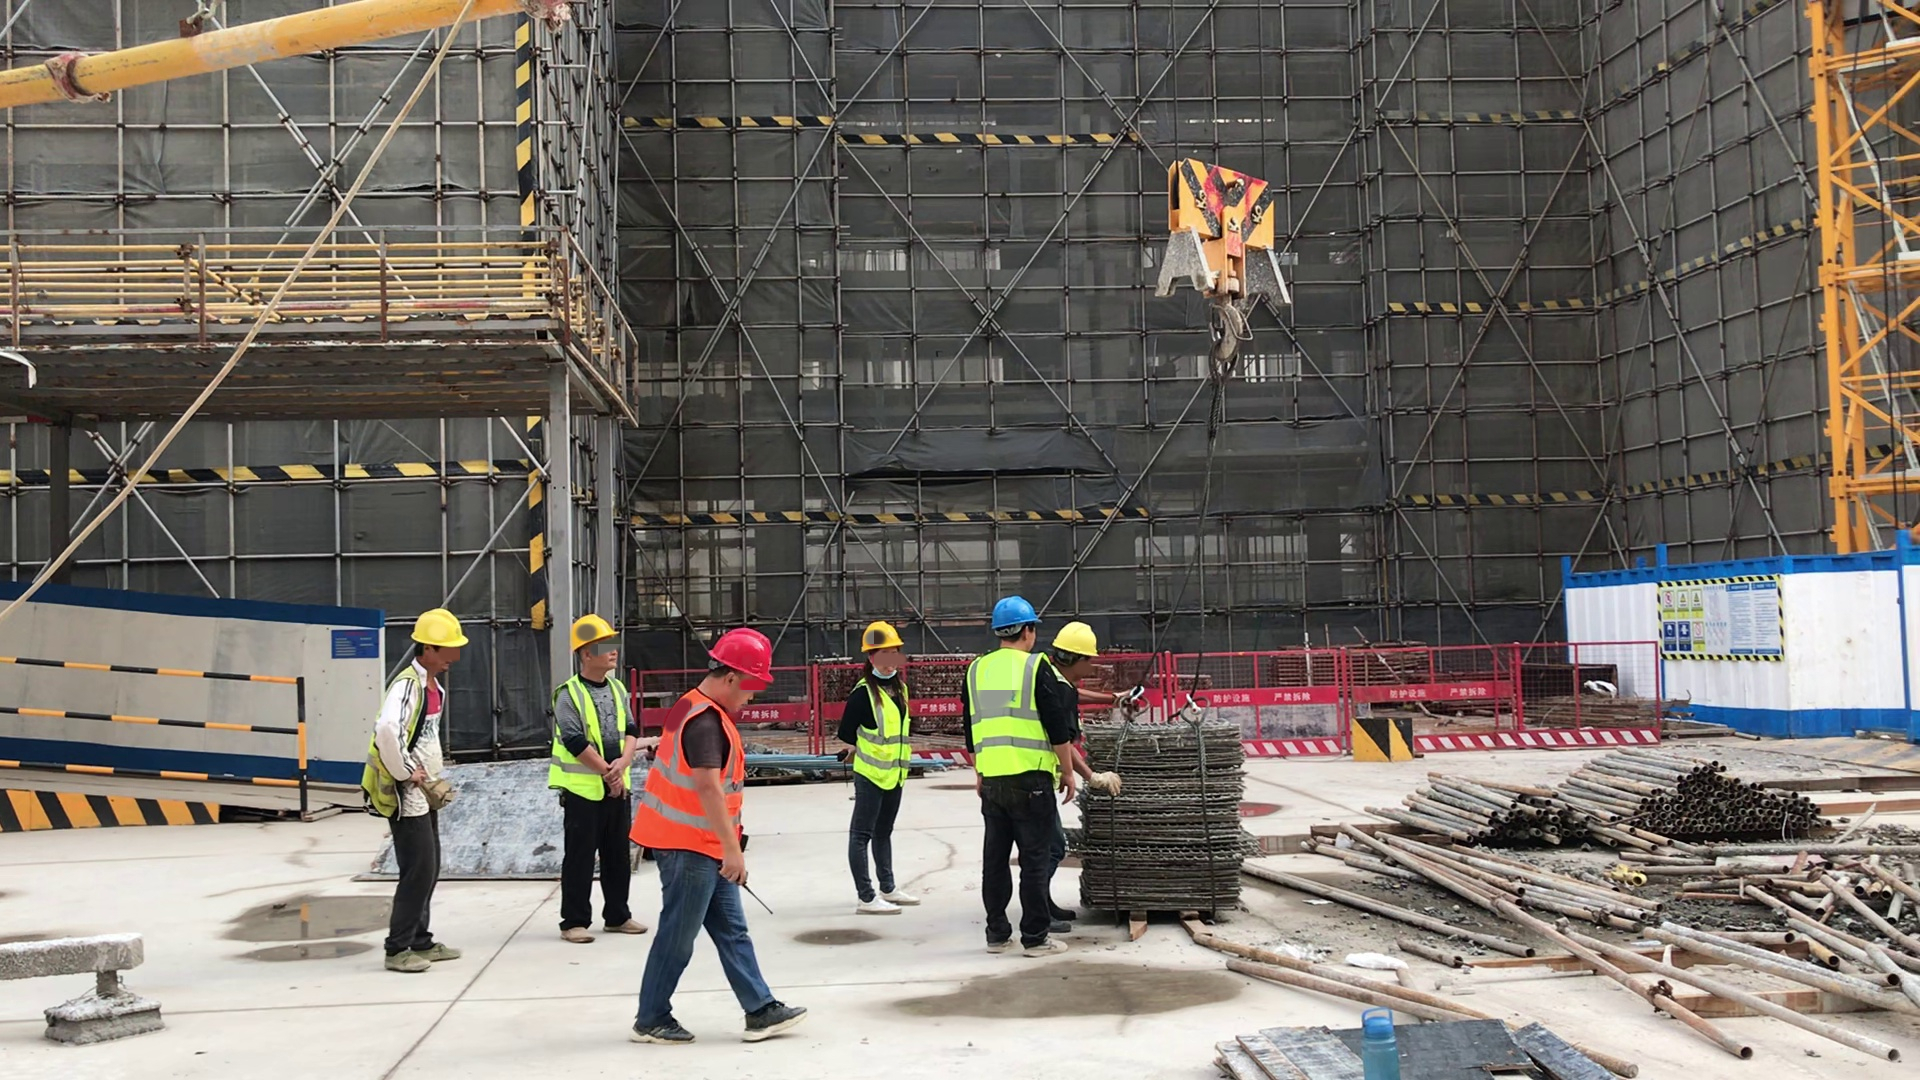fence: (10, 648, 315, 808), (1414, 639, 1660, 750), (1241, 639, 1343, 760), (765, 654, 830, 753)
helmet: (706, 628, 776, 686), (409, 608, 467, 649), (565, 616, 619, 653), (988, 599, 1042, 631), (1054, 624, 1101, 659), (860, 623, 904, 656)
hook: (1154, 156, 1299, 353)
person: (629, 626, 813, 1048), (961, 597, 1079, 960), (358, 604, 466, 973), (547, 614, 635, 943), (839, 620, 925, 916), (1061, 620, 1141, 717)
scaffold: (1569, 738, 1836, 839), (1365, 771, 1592, 849)
slogan: (1658, 579, 1784, 657)
vest: (635, 689, 749, 865), (967, 650, 1059, 780), (551, 675, 633, 804), (367, 668, 429, 823), (857, 675, 913, 793)
